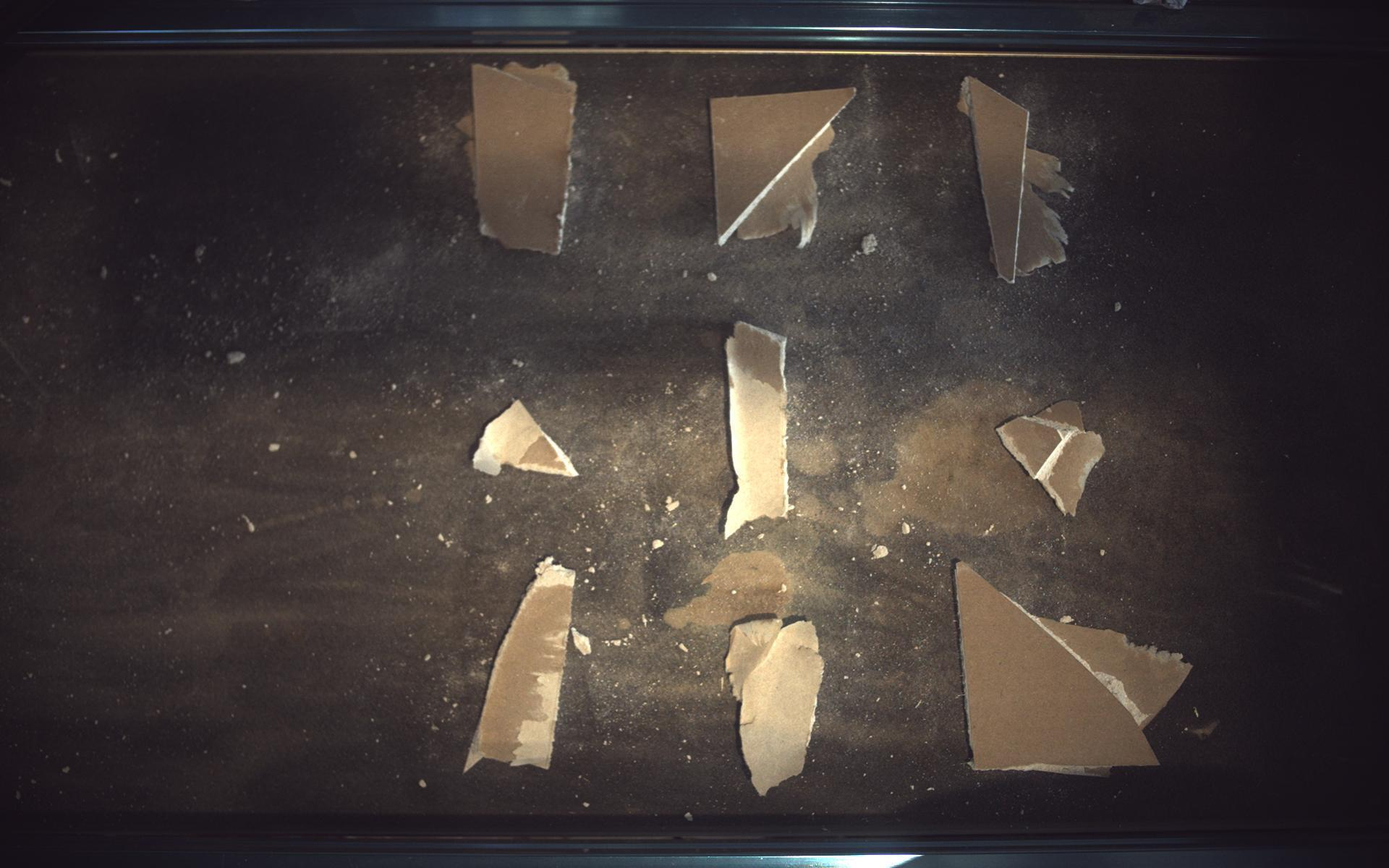gypsum_board: (957, 563, 1194, 776), (959, 76, 1076, 282), (464, 558, 576, 770), (713, 86, 857, 247), (457, 61, 577, 254), (726, 619, 825, 797), (725, 321, 791, 538), (998, 401, 1107, 516), (472, 400, 579, 477)
